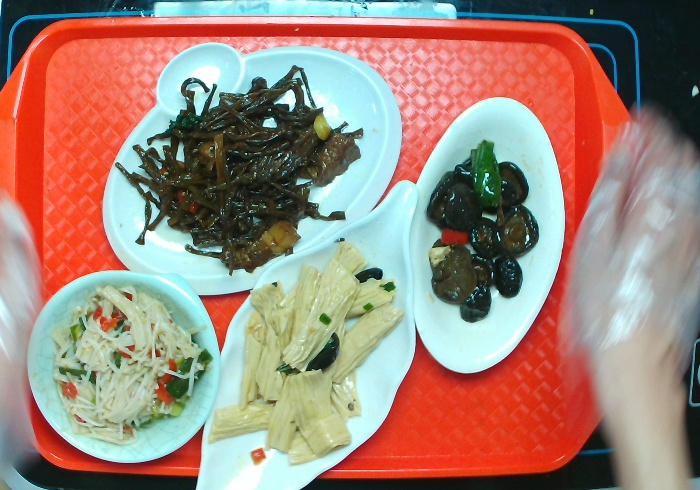RJxy-Bai_Se_Tuo_Yuan: (405, 93, 569, 384)
RJxy-Shu_Ye_Pan: (182, 175, 421, 489)
RJxy-Xiao_Jiao_Yuan_Wan: (21, 265, 224, 468)
RJxy-Zhan_Liao_Pan: (96, 38, 406, 300)
